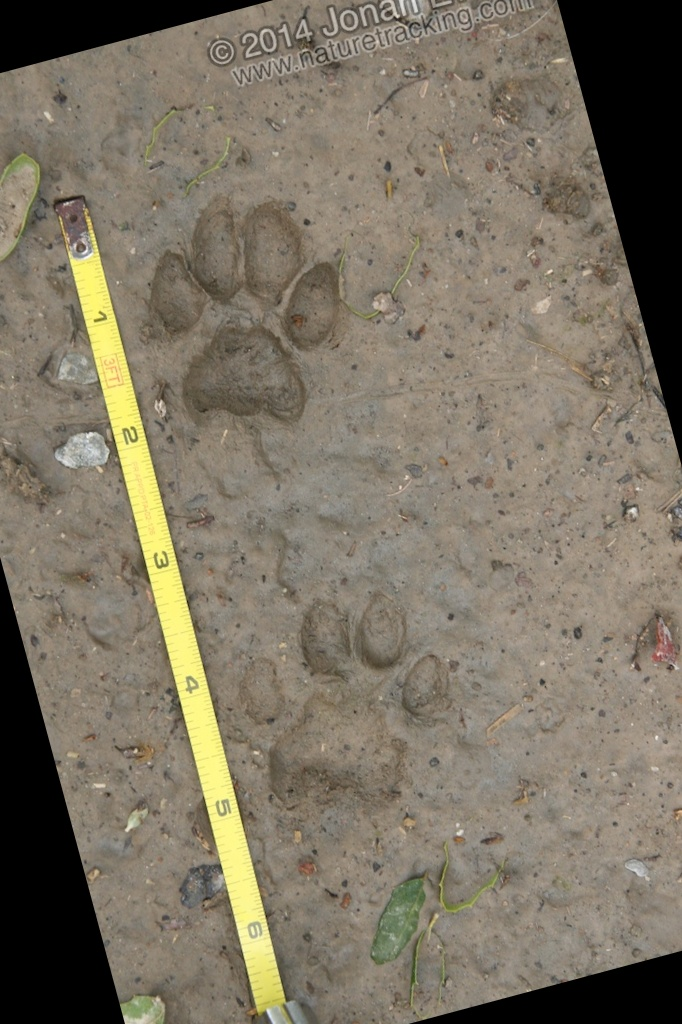lynx: (79, 154, 408, 517), (174, 556, 502, 869)
